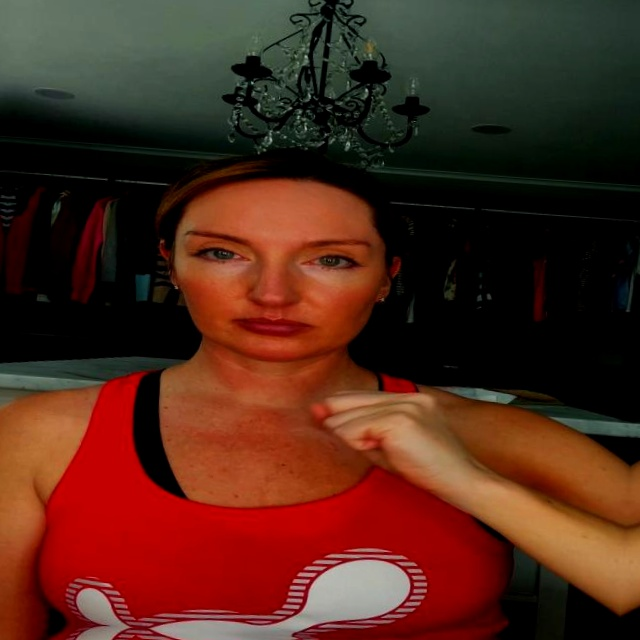Rock: (305, 382, 493, 496)
